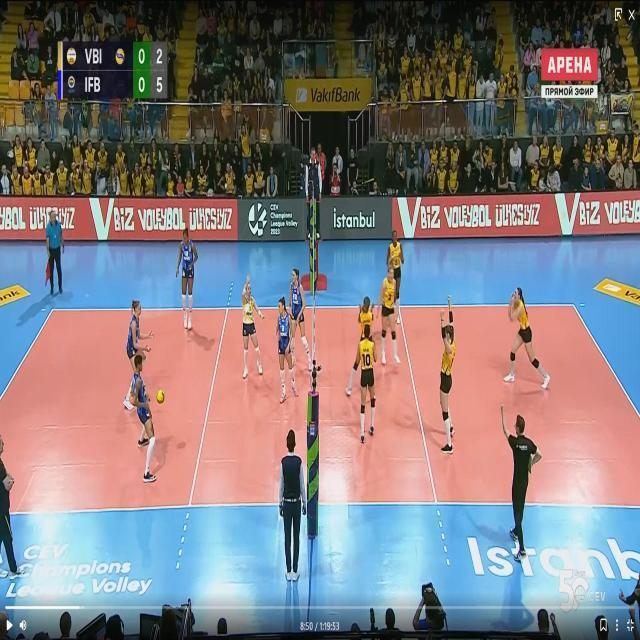volleyball: (156, 390, 165, 404)
